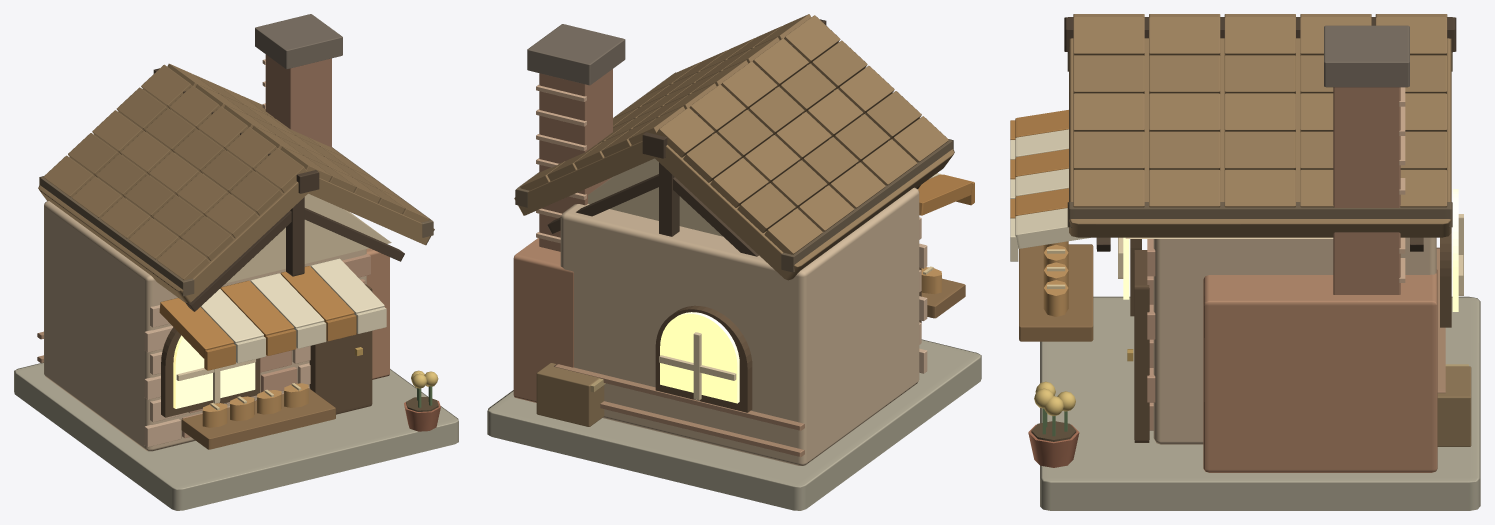
File: bakery-1.glb
The picture shows the model from 3 angles, left to right: view 1: azimuth 30°, elevation 25°; view 2: azimuth 150°, elevation 25°; view 3: azimuth 270°, elevation 25°; orthographic projection. The views are drawn at different scales.
Visible parts, largest first — view 1: bakery-1-0; view 2: bakery-1-0; view 3: bakery-1-0.
Part boxes in pixels (x1,y1,x2,y2): bakery-1-0: (14, 14, 458, 510); bakery-1-0: (487, 14, 981, 510); bakery-1-0: (1010, 14, 1480, 510).
Bounding box in the file's own units: 1.9 × 2.1 × 2.03.
